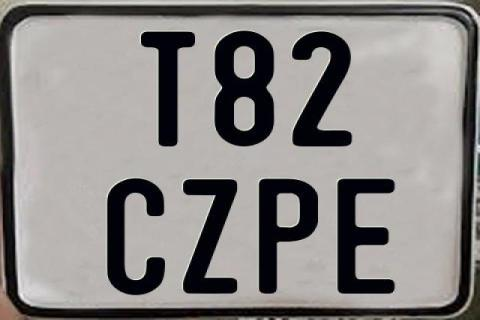0: (212, 30, 278, 146), (292, 29, 352, 147)
C: (104, 177, 164, 295)
E: (336, 178, 397, 298)
P: (257, 178, 318, 294)
T: (141, 29, 198, 145)
Z: (180, 177, 237, 297)
